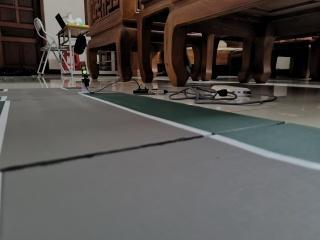green: (78, 55, 92, 85)
